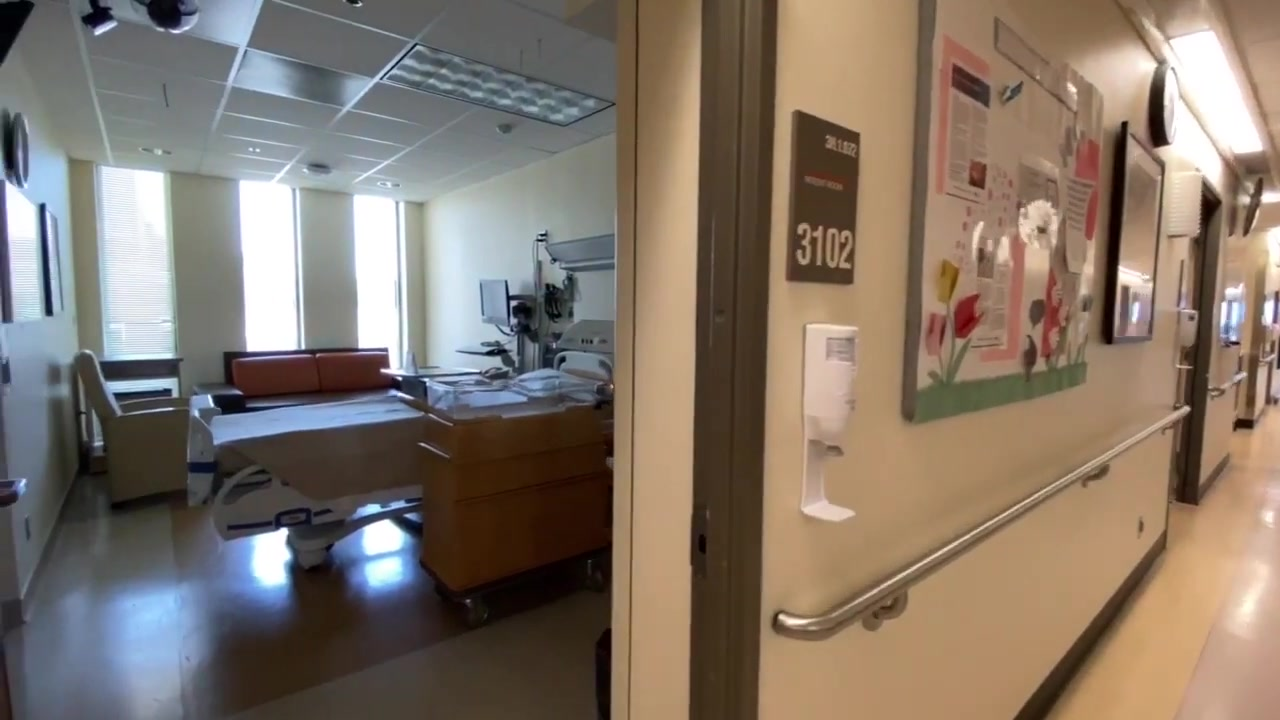bedrail: (213, 463, 357, 541)
computer: (479, 279, 508, 324)
dispenser: (799, 322, 863, 524), (1173, 308, 1199, 369)
door_handle: (1, 478, 28, 508)
foot_board: (190, 393, 222, 504)
hallway_assist_bar: (770, 405, 1191, 644), (1208, 370, 1248, 401)
hospital_bed: (190, 320, 615, 542)
sofa: (84, 338, 214, 519), (192, 346, 402, 416)
